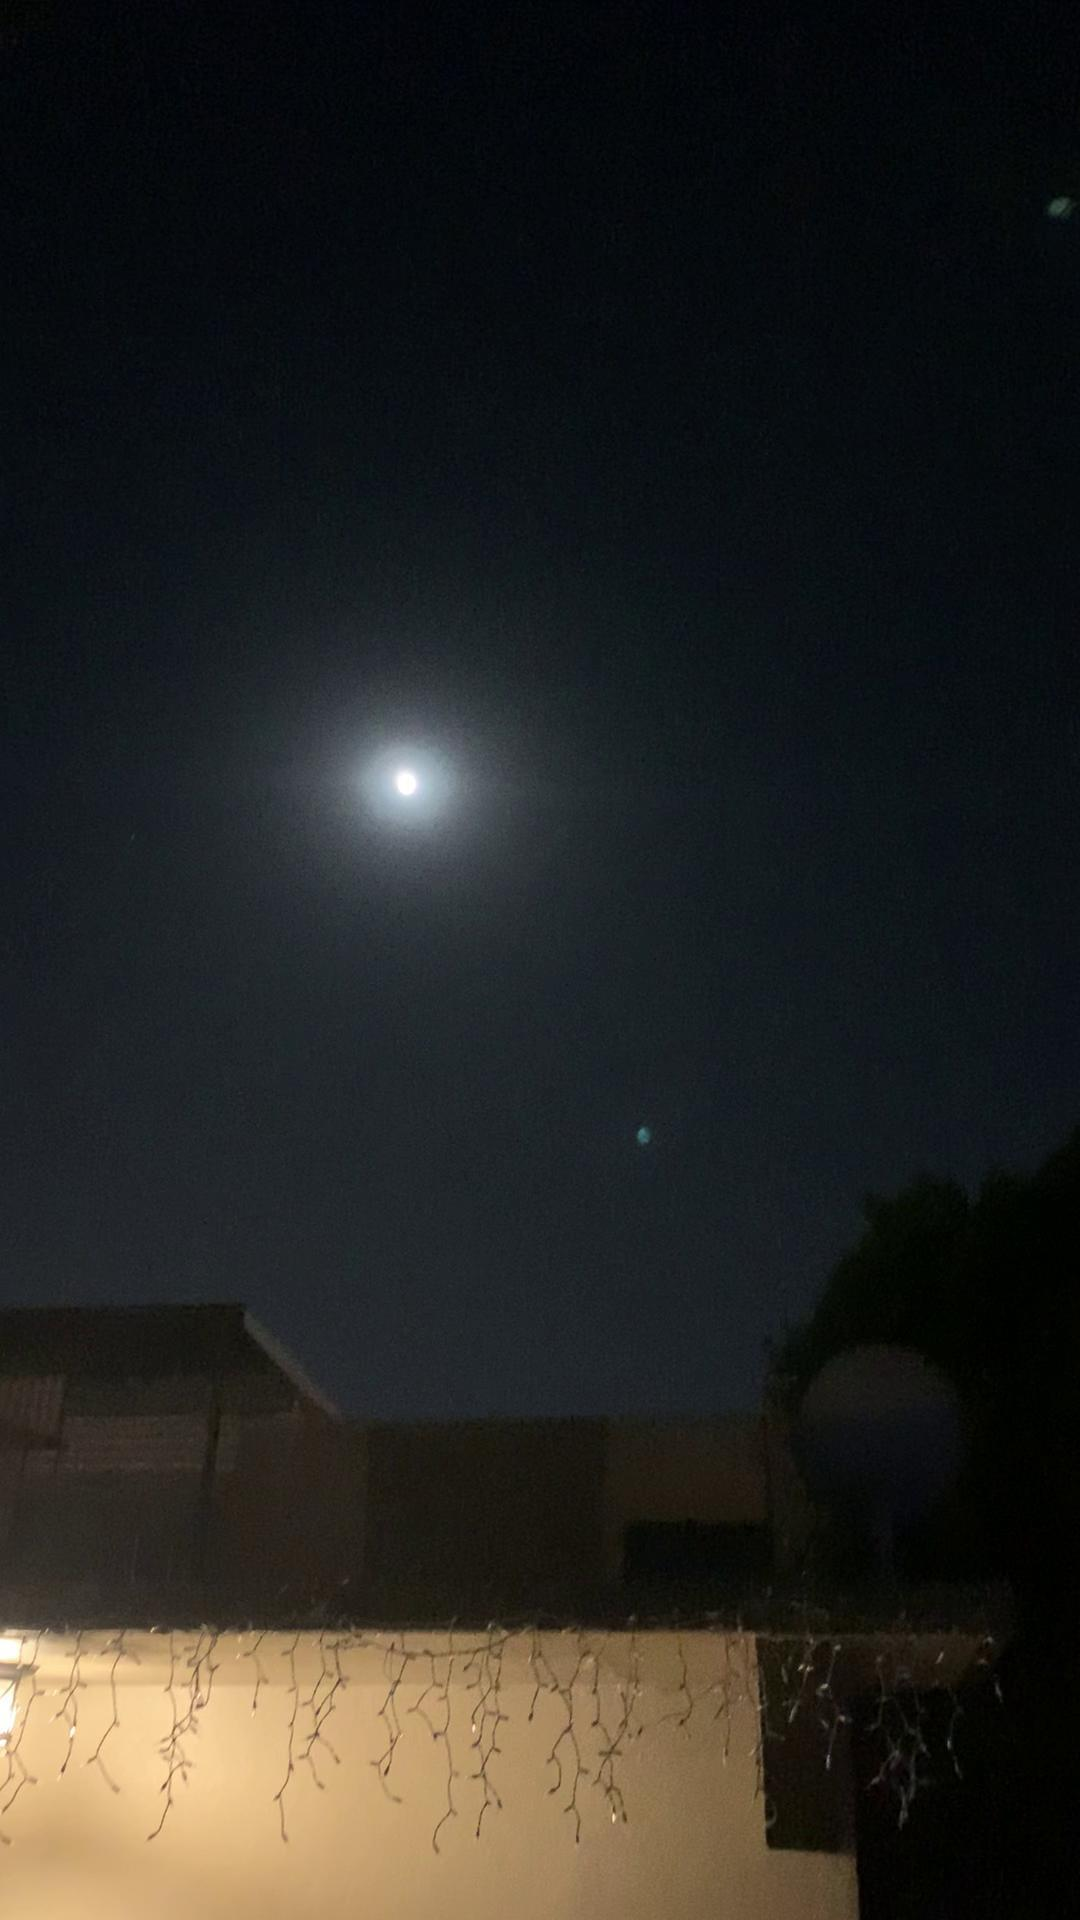moon: (365, 732, 452, 811)
